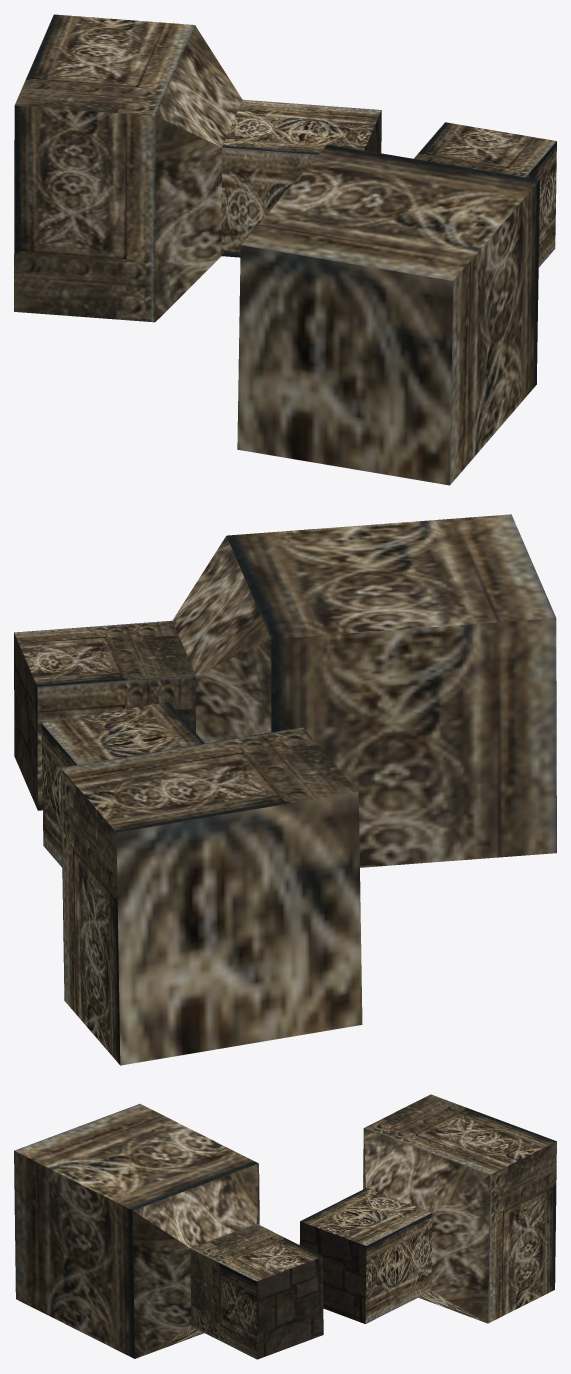
File: column-destr_07.FBX
The picture shows the model from 3 angles, top to bottom: view 1: azimuth 30°, elevation 25°; view 2: azimuth 150°, elevation 25°; view 3: azimuth 270°, elevation 25°; orthographic projection. The views are drawn at different scales.
Parts seen in each view (by area): view 1: column-destr_07; view 2: column-destr_07; view 3: column-destr_07.
Boxes of the visible parts, x1,y1,x2,y2 form: column-destr_07: (14, 14, 556, 485); column-destr_07: (14, 514, 556, 1065); column-destr_07: (14, 1094, 556, 1359).
Size of the model in its own units: 1.46 by 0.6843 by 2.22.
